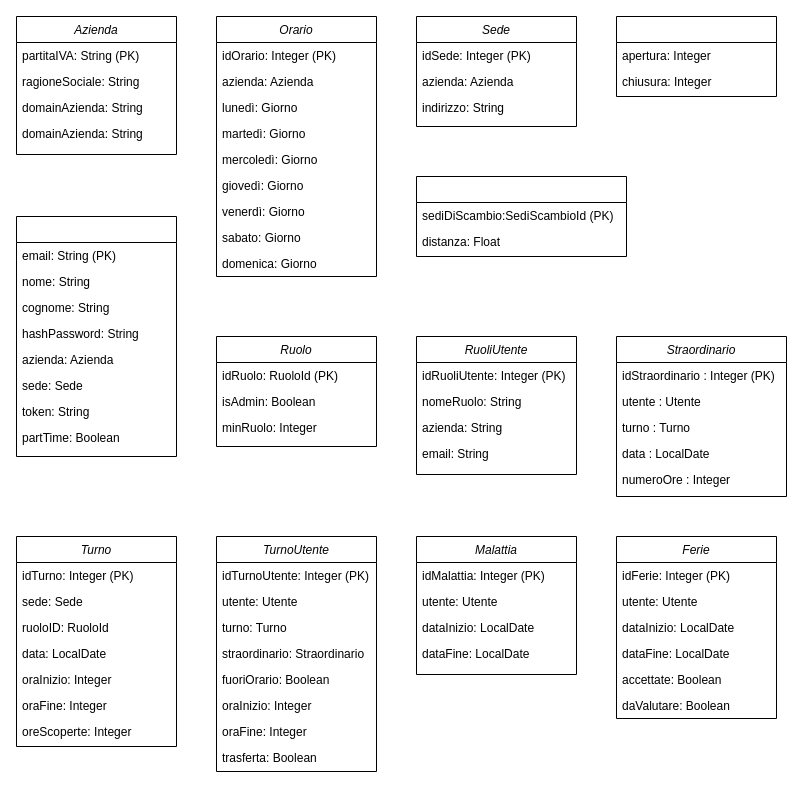
This 803x788 diagram has some shape labels left out. Each missing label, with the box of its shape:
Giorno: (616, 16, 776, 96)
Utente: (16, 216, 176, 456)
VicinanzaSedi: (416, 176, 626, 256)
